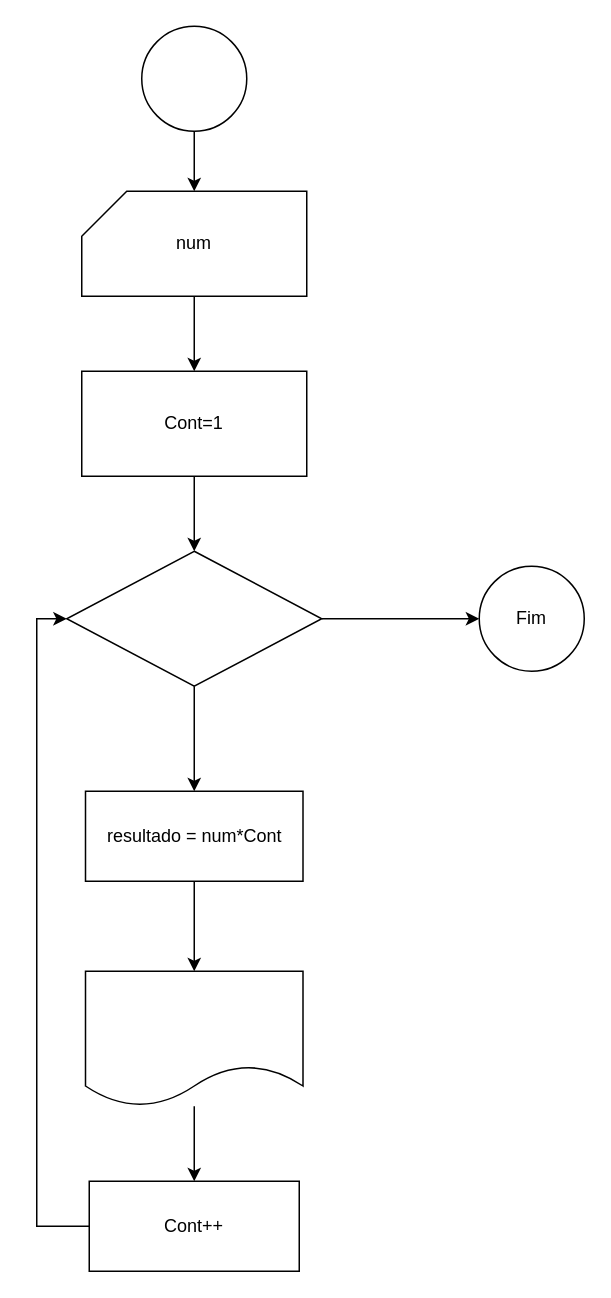
Image size: 611x1298. Some labels were removed from this diagram. The shapes that lost their labels are listed below. From the top down, each one's centre as x and y in pixels, then its label:
[193,78]: Inicio
[193,618]: Cont<=200
[193,1038]: num"x"Cont=resultado
